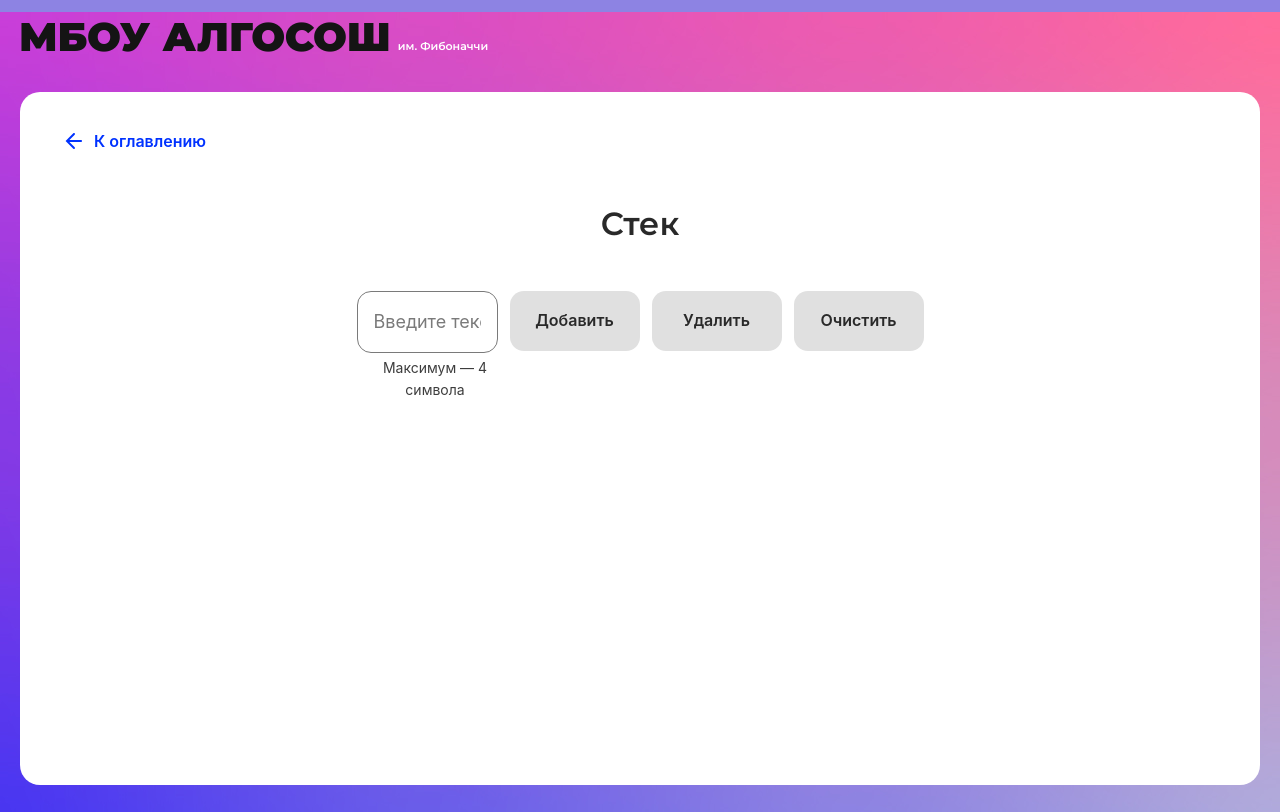
Test: Stack Page › deletes an element from the stack
This screenshot has width=1280, height=812.
Type "42" into the field with test id "input" at point(428, 322), box [357,291,498,353]
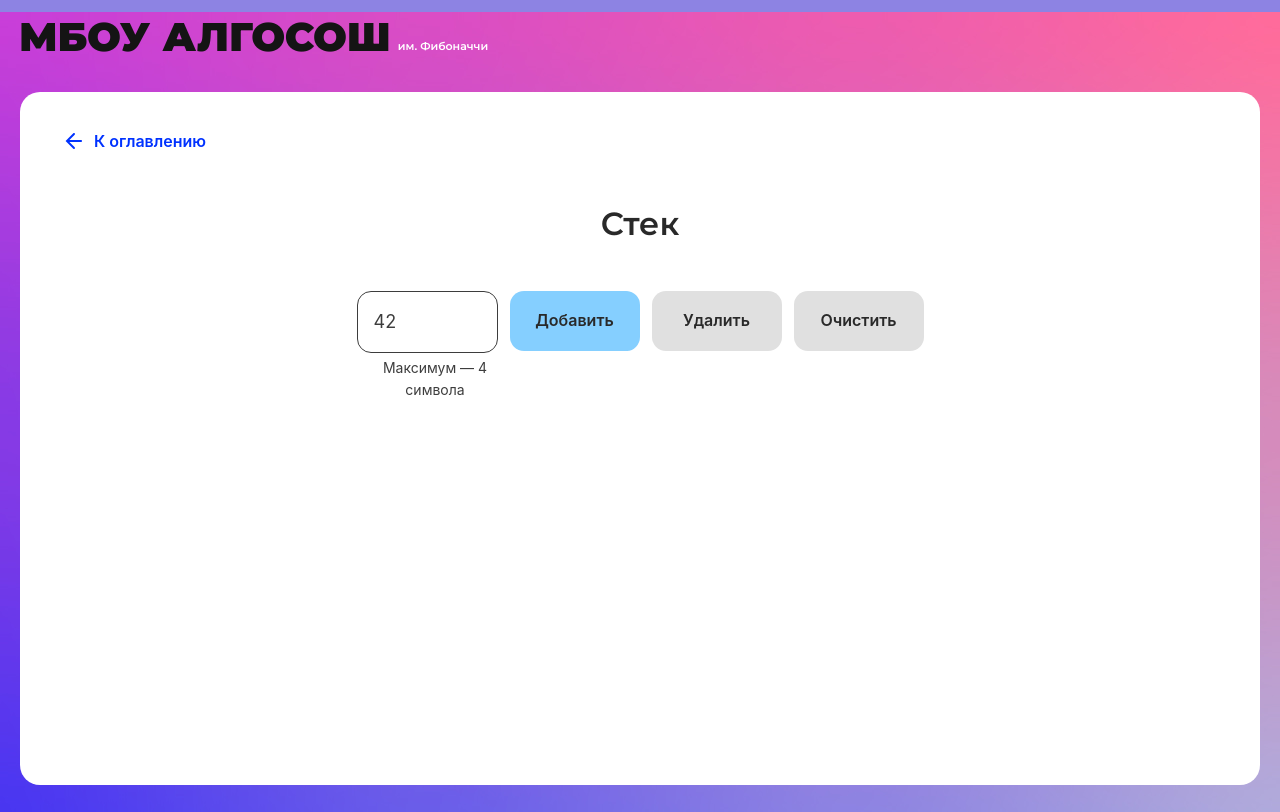
Click the button with test id "add-button" at point(575, 321), box [510,291,640,351]
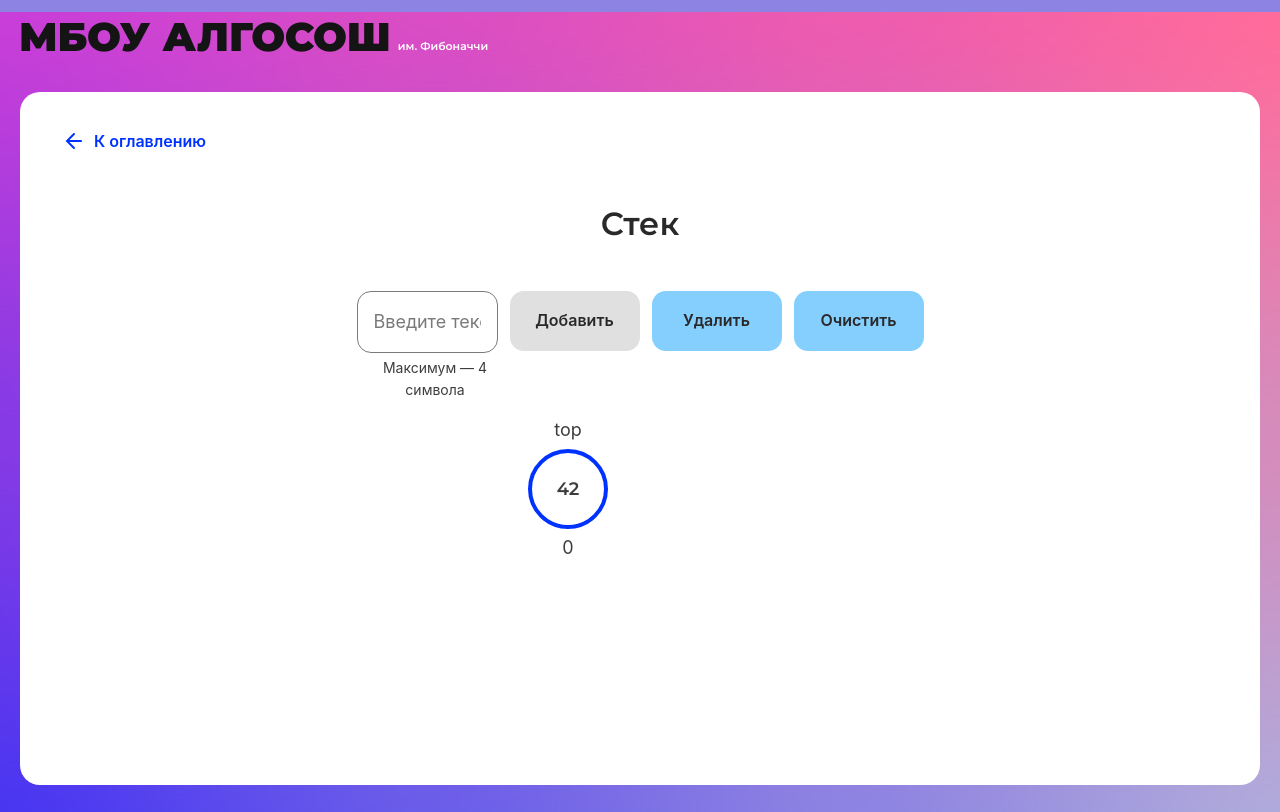
Click the button with test id "delete-button" at point(717, 321), box [652,291,782,351]
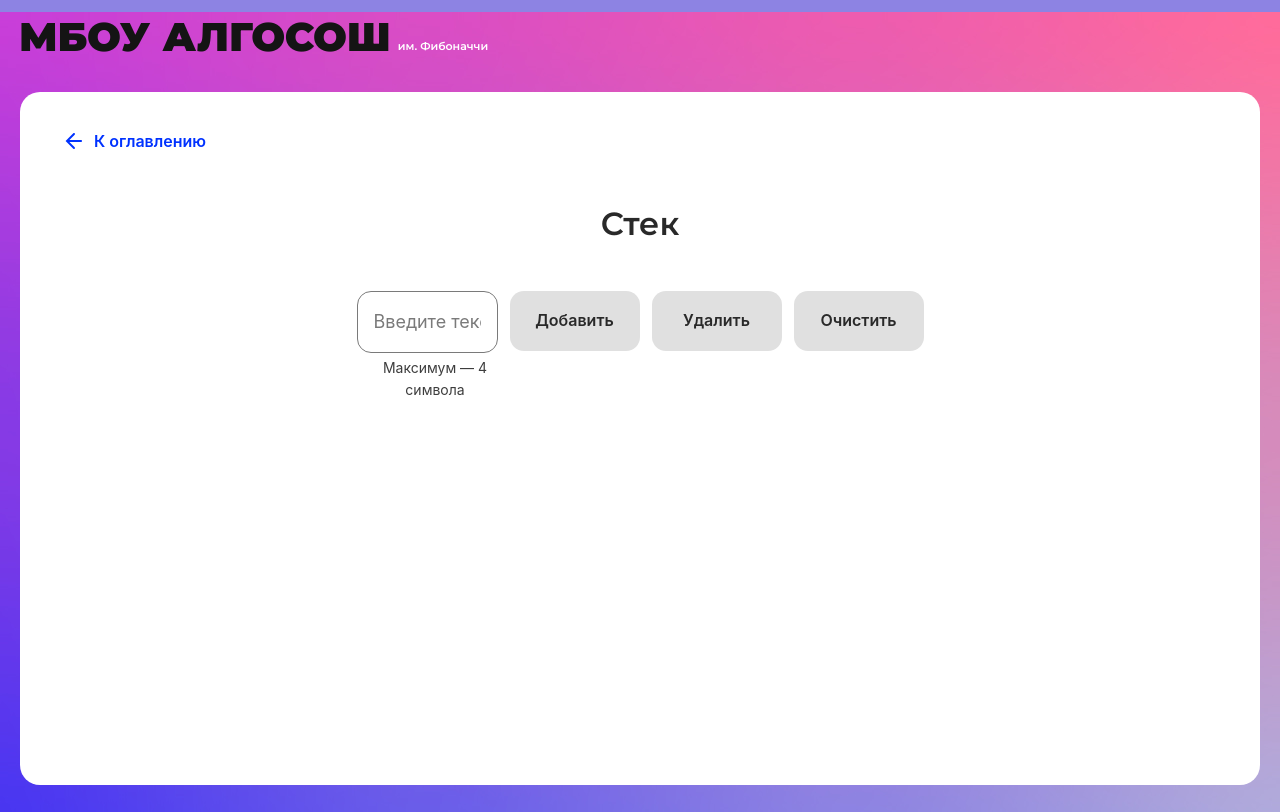
Expected: the list item with test id "stack-item" is gone
